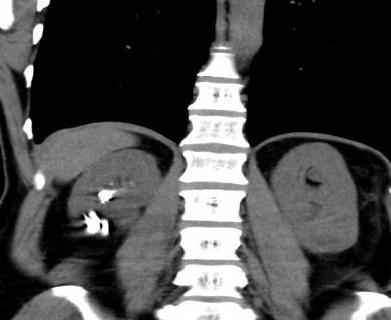Tas_Var: (82, 206, 100, 237), (94, 188, 120, 208), (100, 218, 110, 236), (108, 180, 115, 187)
